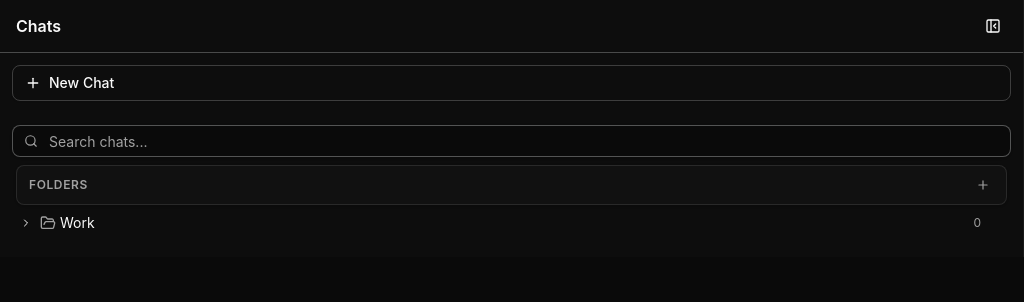
Test: SessionList › Folder Filter Toggle › should clear folder filter when clicking same folder again
Click folder once to filter
Click the text "Work" at (77,222), box [60,214,95,231]
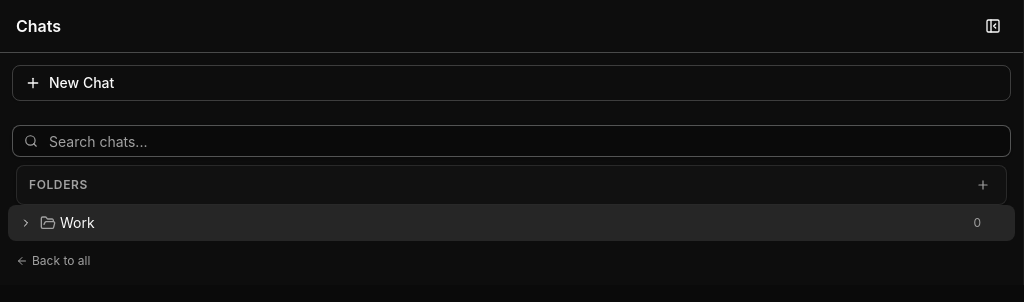
Result: the button "Back to all" is shown at [8,249,98,273]
Click folder again to clear filter
Click the text "Work" at (77,222), box [60,214,95,231]
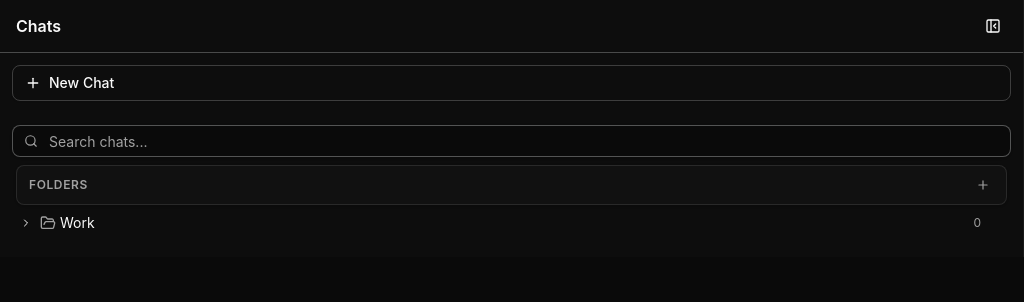
Result: the button "Back to all" is gone
